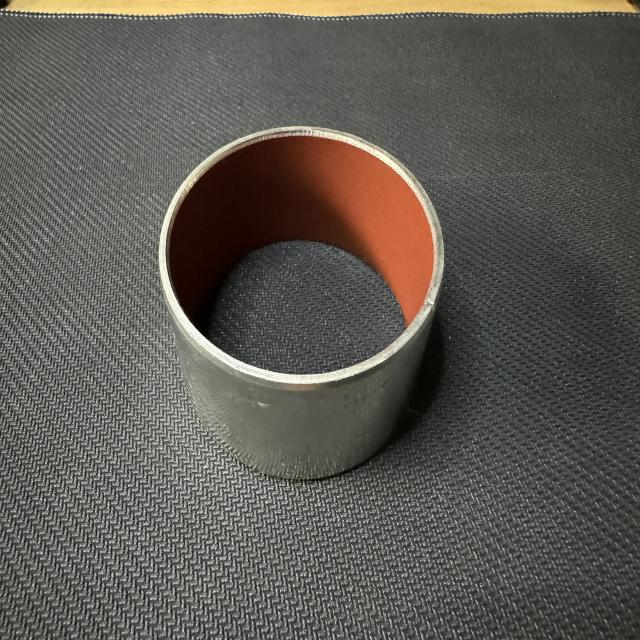metal-ring: (158, 127, 447, 485)
